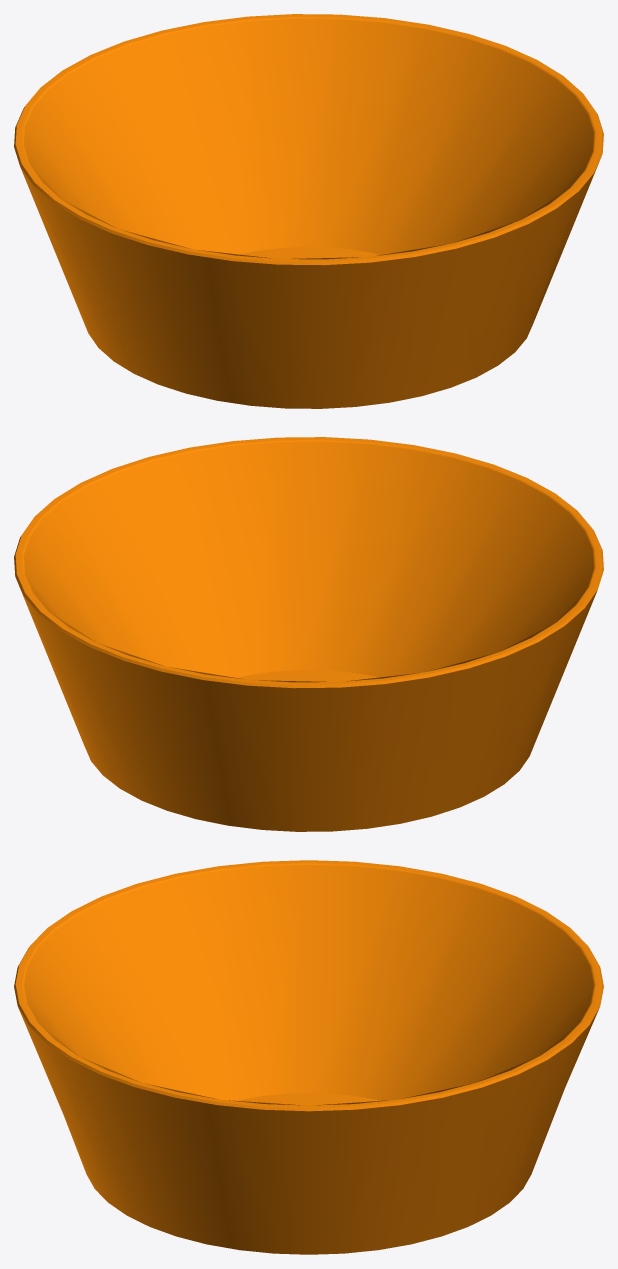
Rendered from SAFETYSHOWERfinal.mb.fbx.
3 renders of one model, top to bottom at view 1: azimuth 30°, elevation 25°; view 2: azimuth 150°, elevation 25°; view 3: azimuth 270°, elevation 25°, orthographic.
Visible parts, largest first — view 1: pCylinder121; view 2: pCylinder121; view 3: pCylinder121.
Boxes of the visible parts, left/top/right/bottom form: pCylinder121: left=14, top=14, right=603, bottom=408; pCylinder121: left=14, top=437, right=603, bottom=831; pCylinder121: left=14, top=860, right=603, bottom=1254.
Bounding box in the file's own units: 0.9684 × 0.379 × 0.9684.
1 material, 1 textured.
